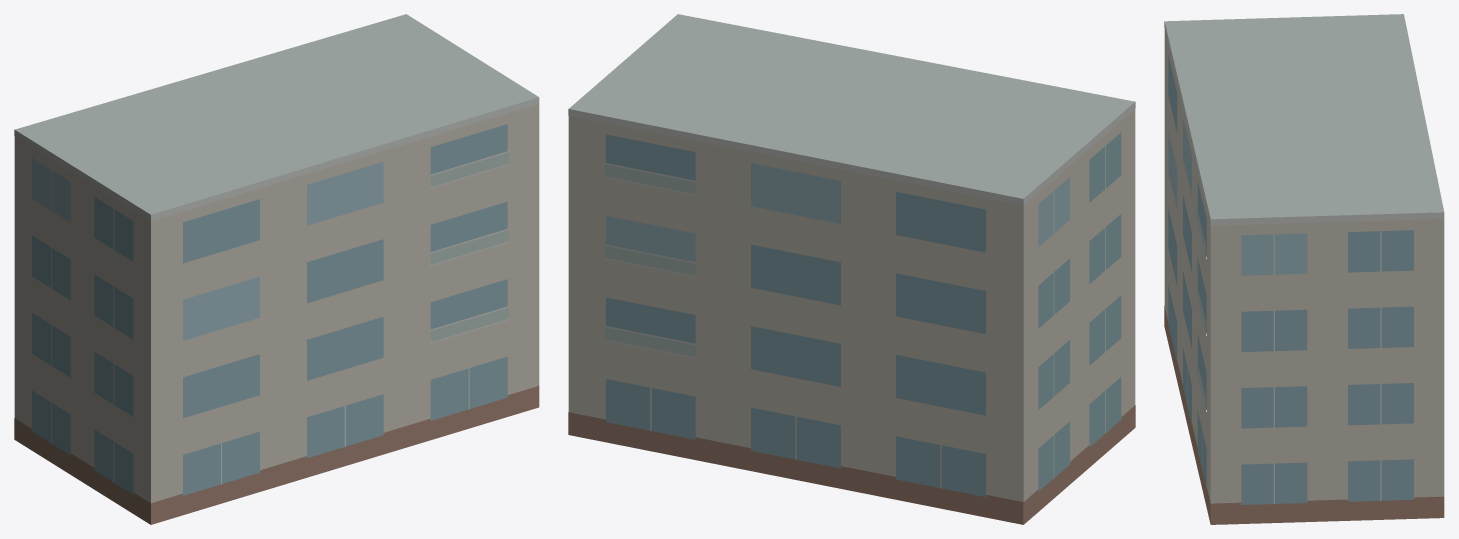
Rendered from survey-upis-32638264.glb.
3 views of the same model, side by side, from view 1: azimuth 30°, elevation 25°; view 2: azimuth 150°, elevation 25°; view 3: azimuth 270°, elevation 25° (orthographic). The views are drawn at different scales.
Parts seen in each view (by area): view 1: survey-upis-32638264.tmp; view 2: survey-upis-32638264.tmp; view 3: survey-upis-32638264.tmp.
Part boxes in pixels (box(x1,y1,x2,y2)): survey-upis-32638264.tmp: box(14, 14, 539, 524); survey-upis-32638264.tmp: box(568, 14, 1135, 524); survey-upis-32638264.tmp: box(1164, 14, 1444, 524).
Size of the model in its own units: 16.72 by 11.6 by 9.64.
